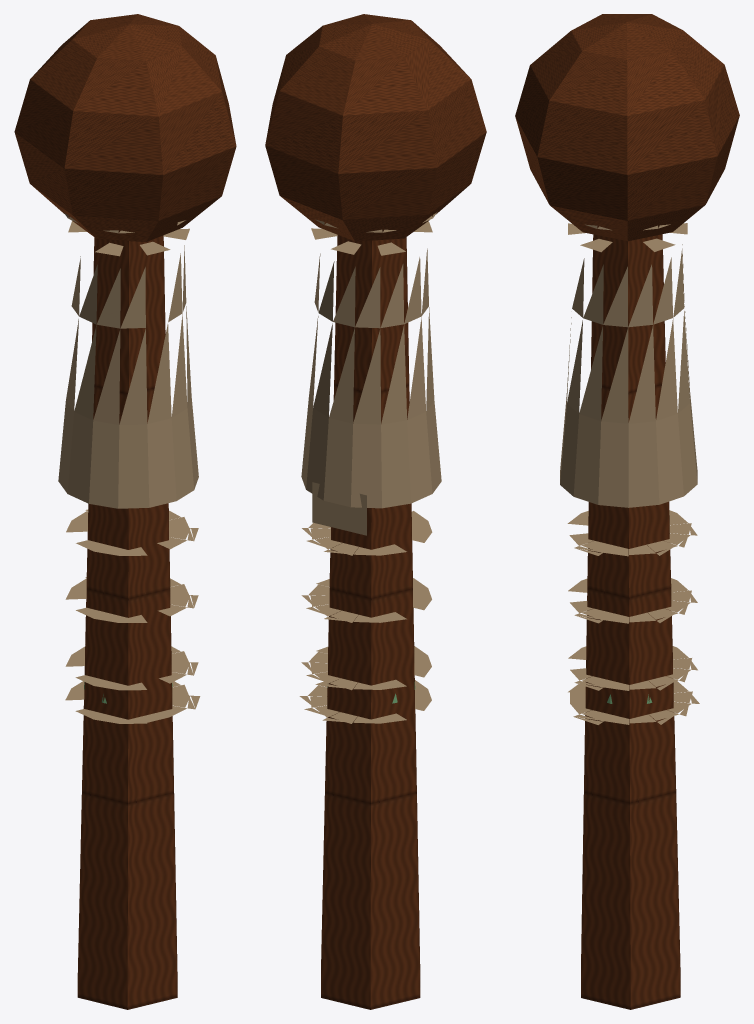
The model's file is goblin-ArmR.glb.
3 views of the same model, side by side, from view 1: azimuth 30°, elevation 25°; view 2: azimuth 150°, elevation 25°; view 3: azimuth 270°, elevation 25° (orthographic).
Visible parts, largest first — view 1: ArmR_weapon.002, ArmR_arm-r.002; view 2: ArmR_weapon.002, ArmR_arm-r.002; view 3: ArmR_weapon.002, ArmR_arm-r.002.
Boxes of the visible parts, <box> form: ArmR_weapon.002: <box>14,14,236,1009</box>; ArmR_arm-r.002: <box>58,212,200,723</box>; ArmR_weapon.002: <box>265,14,486,1009</box>; ArmR_arm-r.002: <box>299,212,441,723</box>; ArmR_weapon.002: <box>515,14,739,1009</box>; ArmR_arm-r.002: <box>560,223,699,724</box>.
Size of the model in its own units: 0.171 by 0.8301 by 0.1755.
3 materials, 1 textured.
